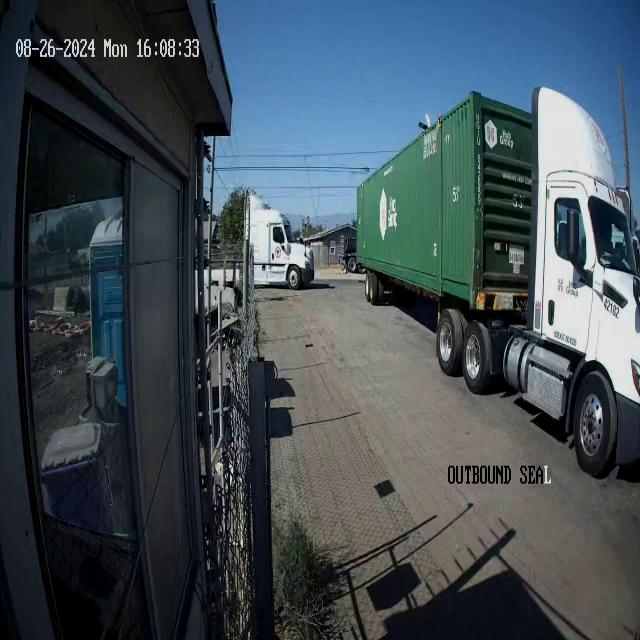TRUCK_CONTAINER: (355, 80, 639, 478)
